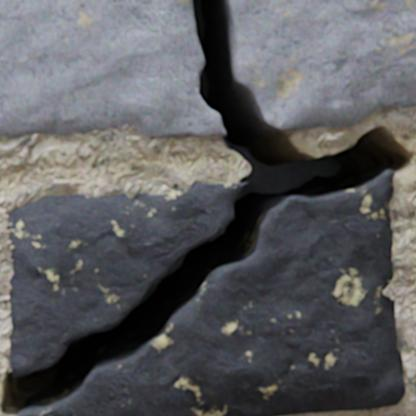broken_brick: (19, 170, 404, 415), (7, 183, 246, 375), (0, 0, 225, 138), (228, 0, 415, 131)
crack: (1, 0, 414, 415)
